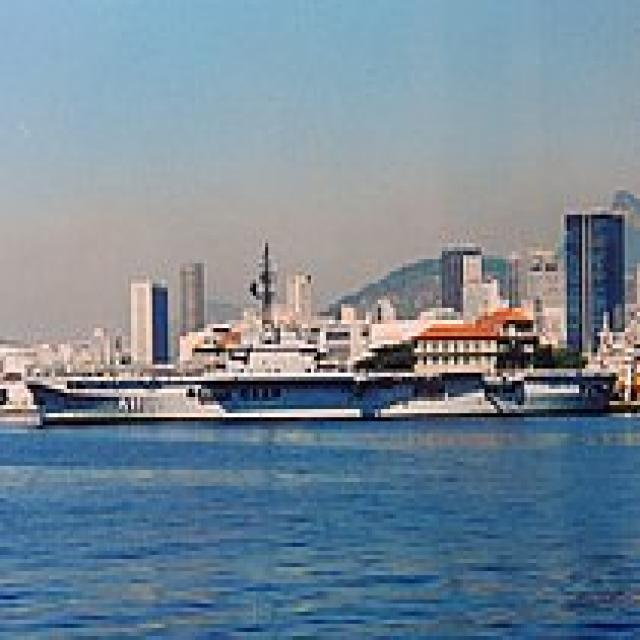Warship: (15, 235, 613, 421)
